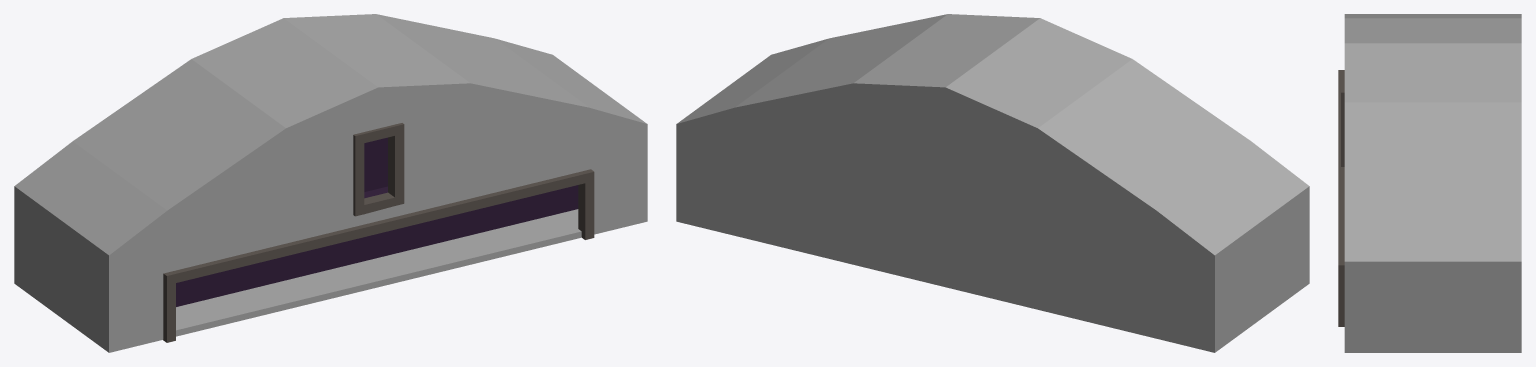
Rendered from Boss_koya (1).fbx.
3 views of the same model, side by side, from view 1: azimuth 30°, elevation 25°; view 2: azimuth 150°, elevation 25°; view 3: azimuth 270°, elevation 25° (orthographic). The views are drawn at different scales.
Parts seen in each view (by area): view 1: koya_hontai, kiwaku1, kiwaku2; view 2: koya_hontai; view 3: koya_hontai, kiwaku1, kiwaku2.
Part boxes in pixels (left/top/right/bottom): koya_hontai: left=14, top=14, right=647, bottom=352; kiwaku1: left=163, top=169, right=594, bottom=342; kiwaku2: left=353, top=123, right=404, bottom=216; koya_hontai: left=676, top=14, right=1309, bottom=352; koya_hontai: left=1344, top=14, right=1521, bottom=352; kiwaku1: left=1338, top=70, right=1344, bottom=326; kiwaku2: left=1341, top=70, right=1344, bottom=166.
Bounding box in the file's own units: 17.94 × 6.39 × 5.66.
